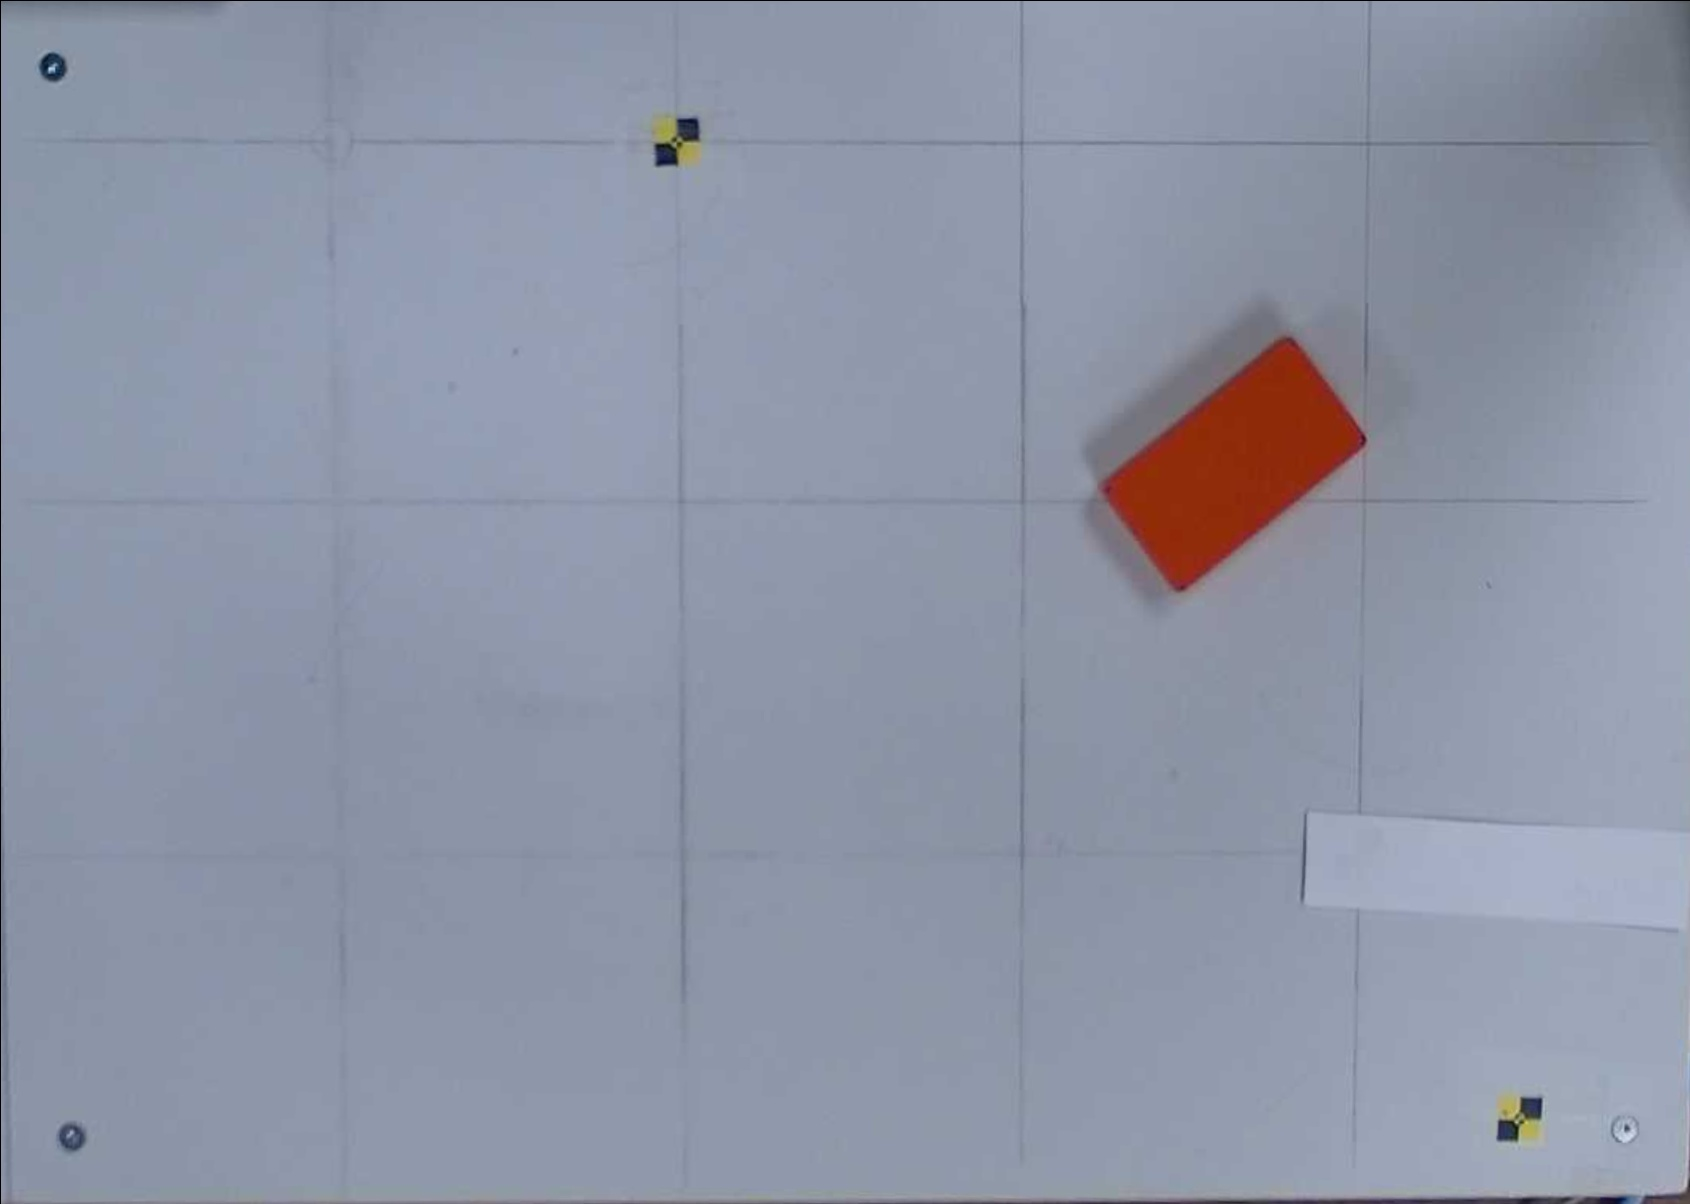Rectangle: (1101, 335, 1367, 594)
